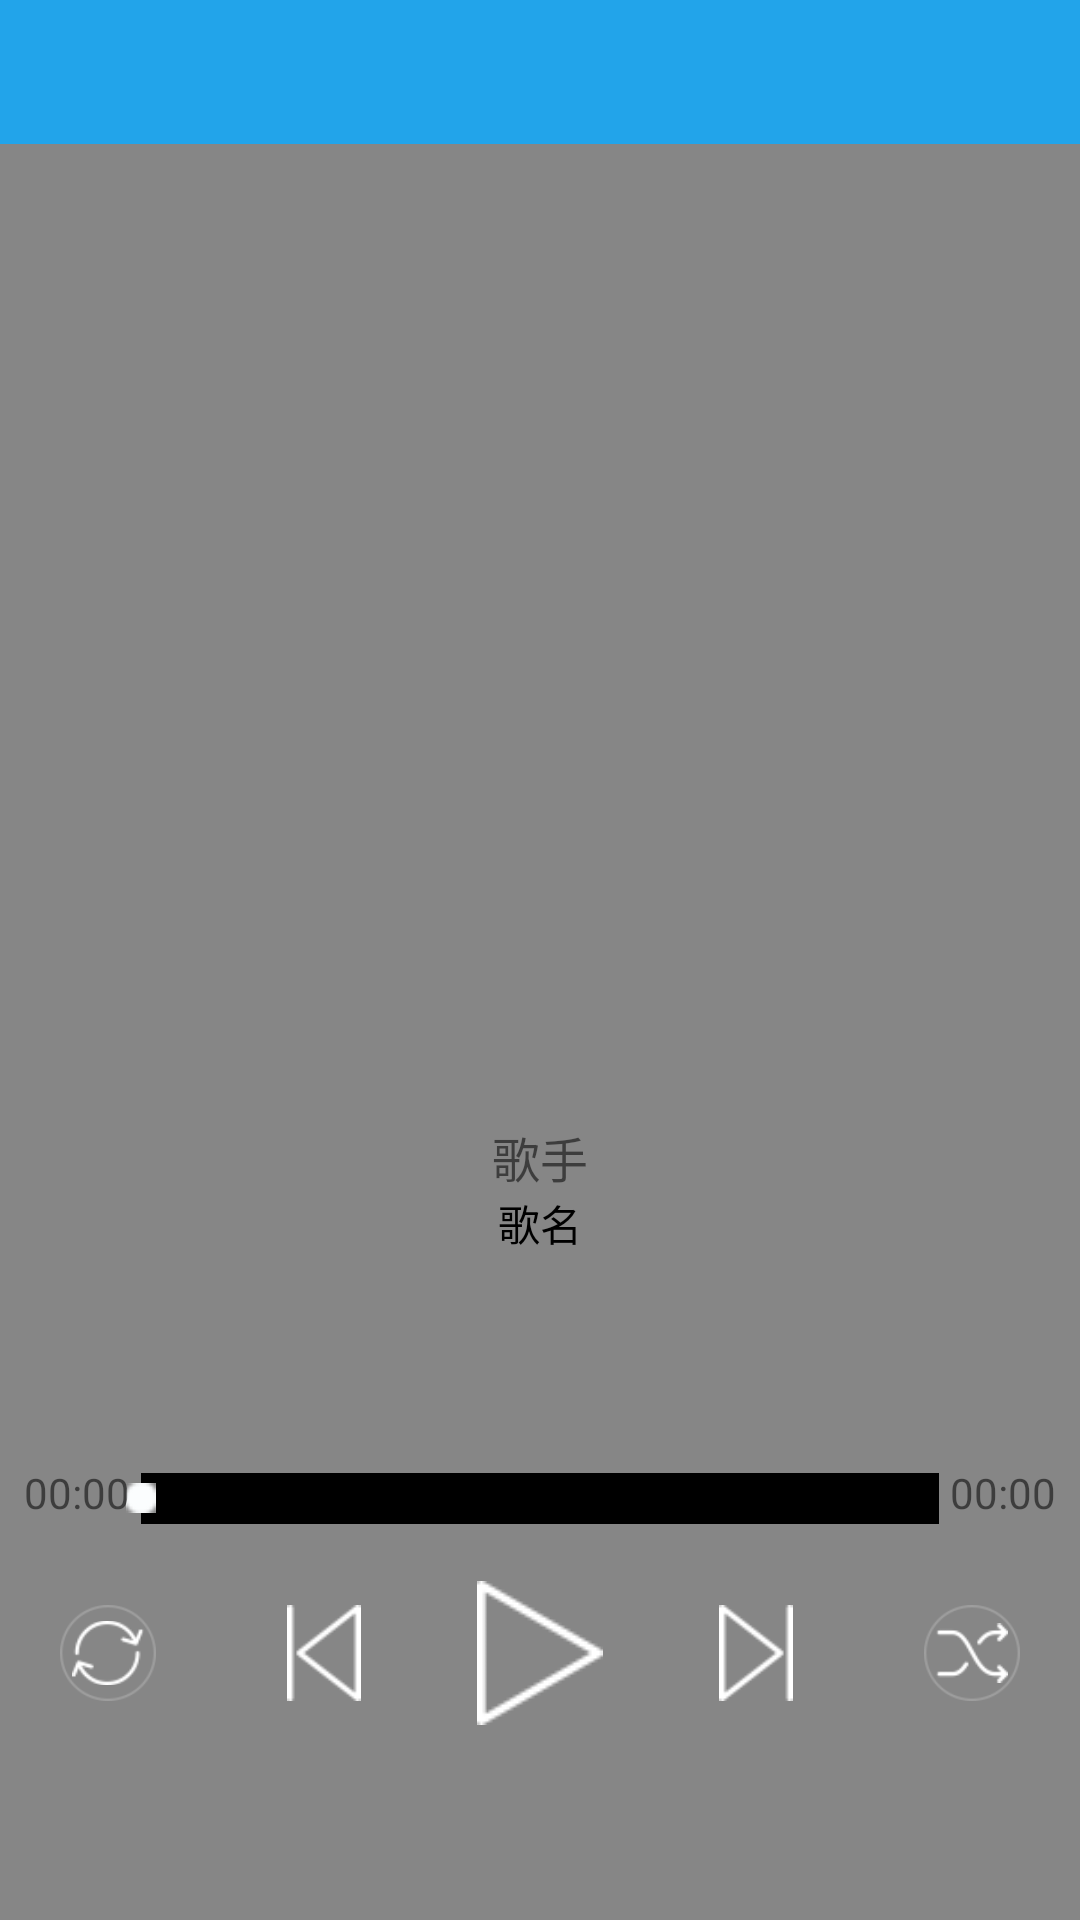

Icons on this 1080*1920 Android screen, each with the point to tap as (x=x, y=y):
next: (x=756, y=1653)
play: (x=540, y=1653)
prev: (x=324, y=1653)
repeat: (x=107, y=1653)
shuffle: (x=972, y=1653)
